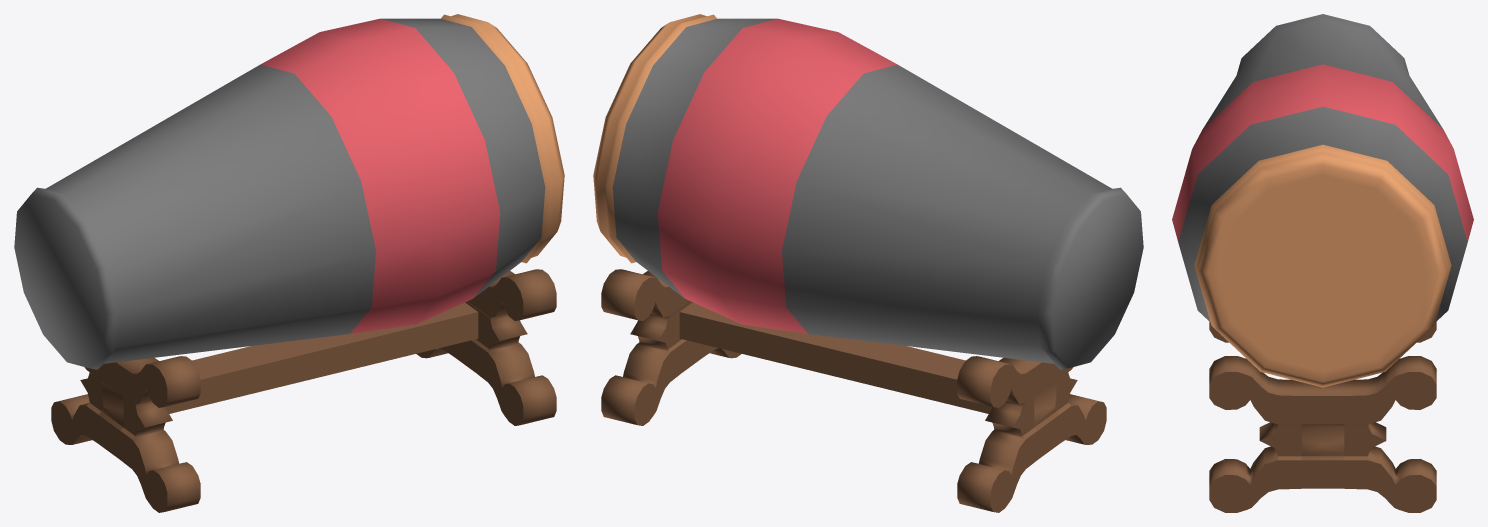
The model's file is Drum Support.fbx.
3 views of the same model, side by side, from view 1: azimuth 30°, elevation 25°; view 2: azimuth 150°, elevation 25°; view 3: azimuth 270°, elevation 25° (orthographic).
Visible parts, largest first — view 1: Cube.020; view 2: Cube.020; view 3: Cube.020.
Boxes of the visible parts, x1,y1,x2,y2 form: Cube.020: (14, 14, 564, 512); Cube.020: (593, 14, 1143, 512); Cube.020: (1172, 14, 1473, 512).
Size of the model in its own units: 2.1 by 1.63 by 1.22.
